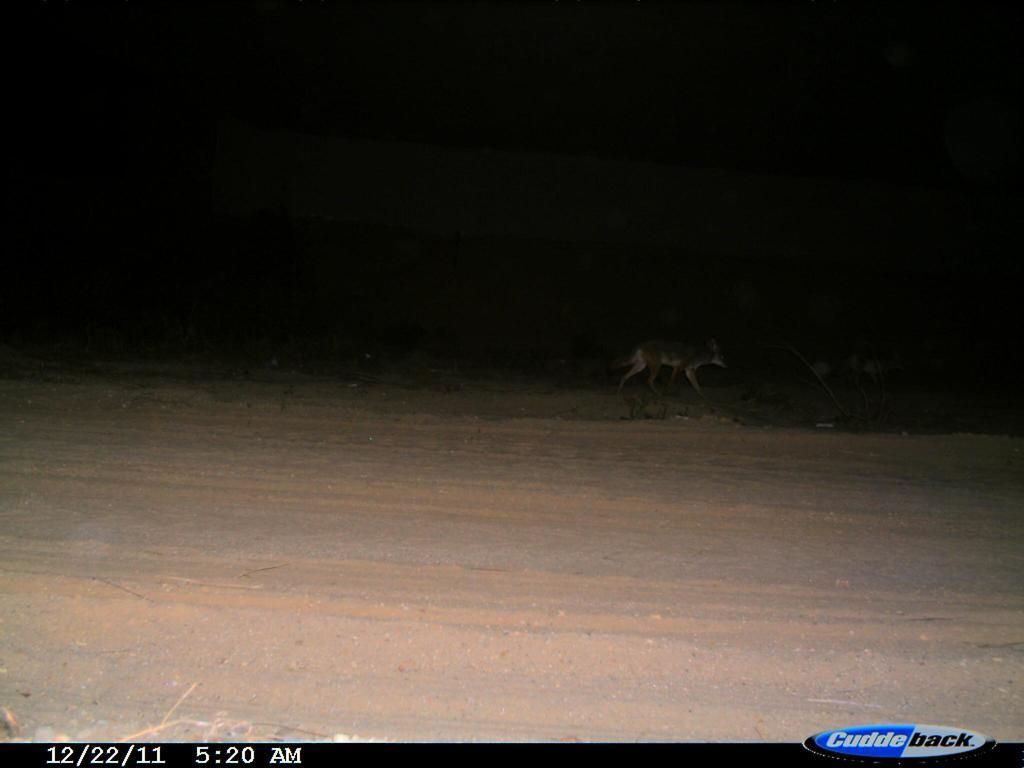coyote: (603, 333, 737, 406)
